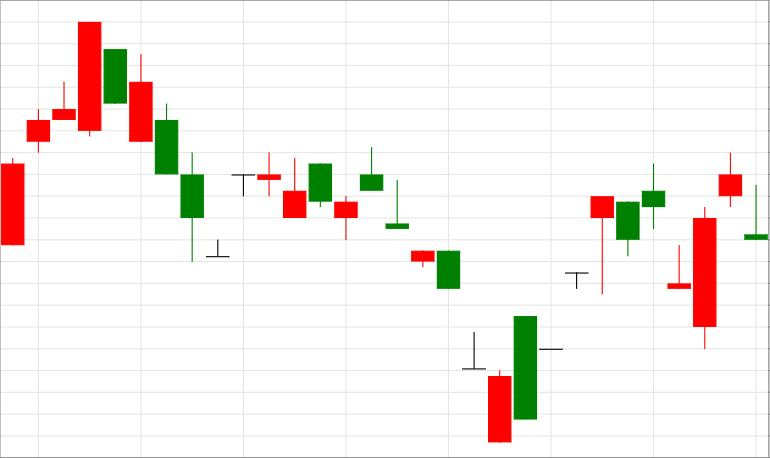hanging_man_fall: (488, 197, 614, 442)
